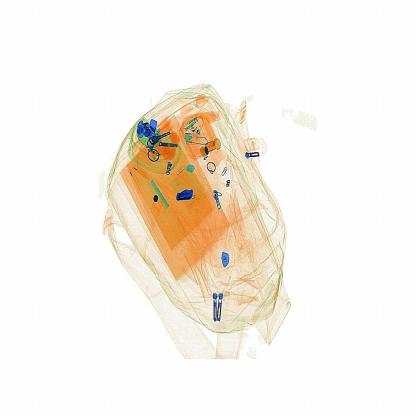knife: (178, 184, 198, 204)
